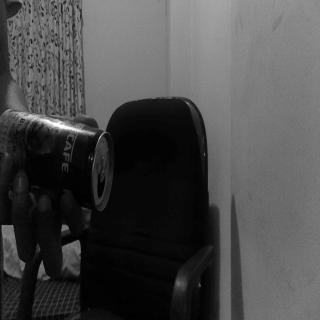alumunium_can: (0, 110, 117, 217)
